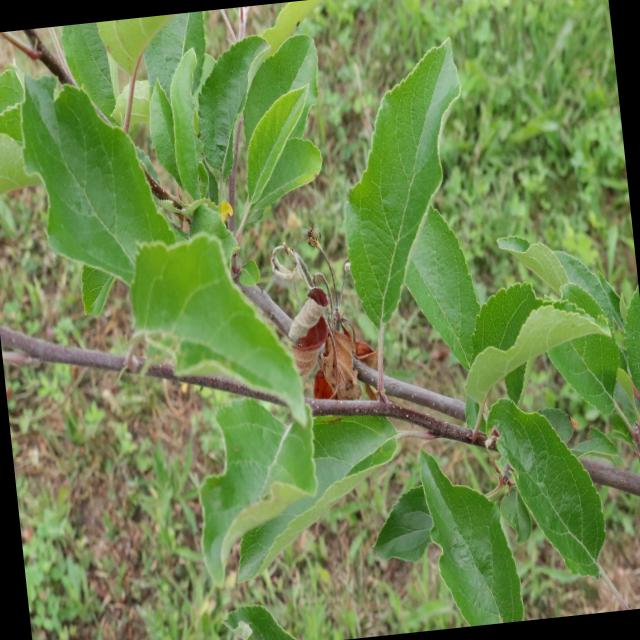-FireBlight-: (287, 295, 375, 407)
